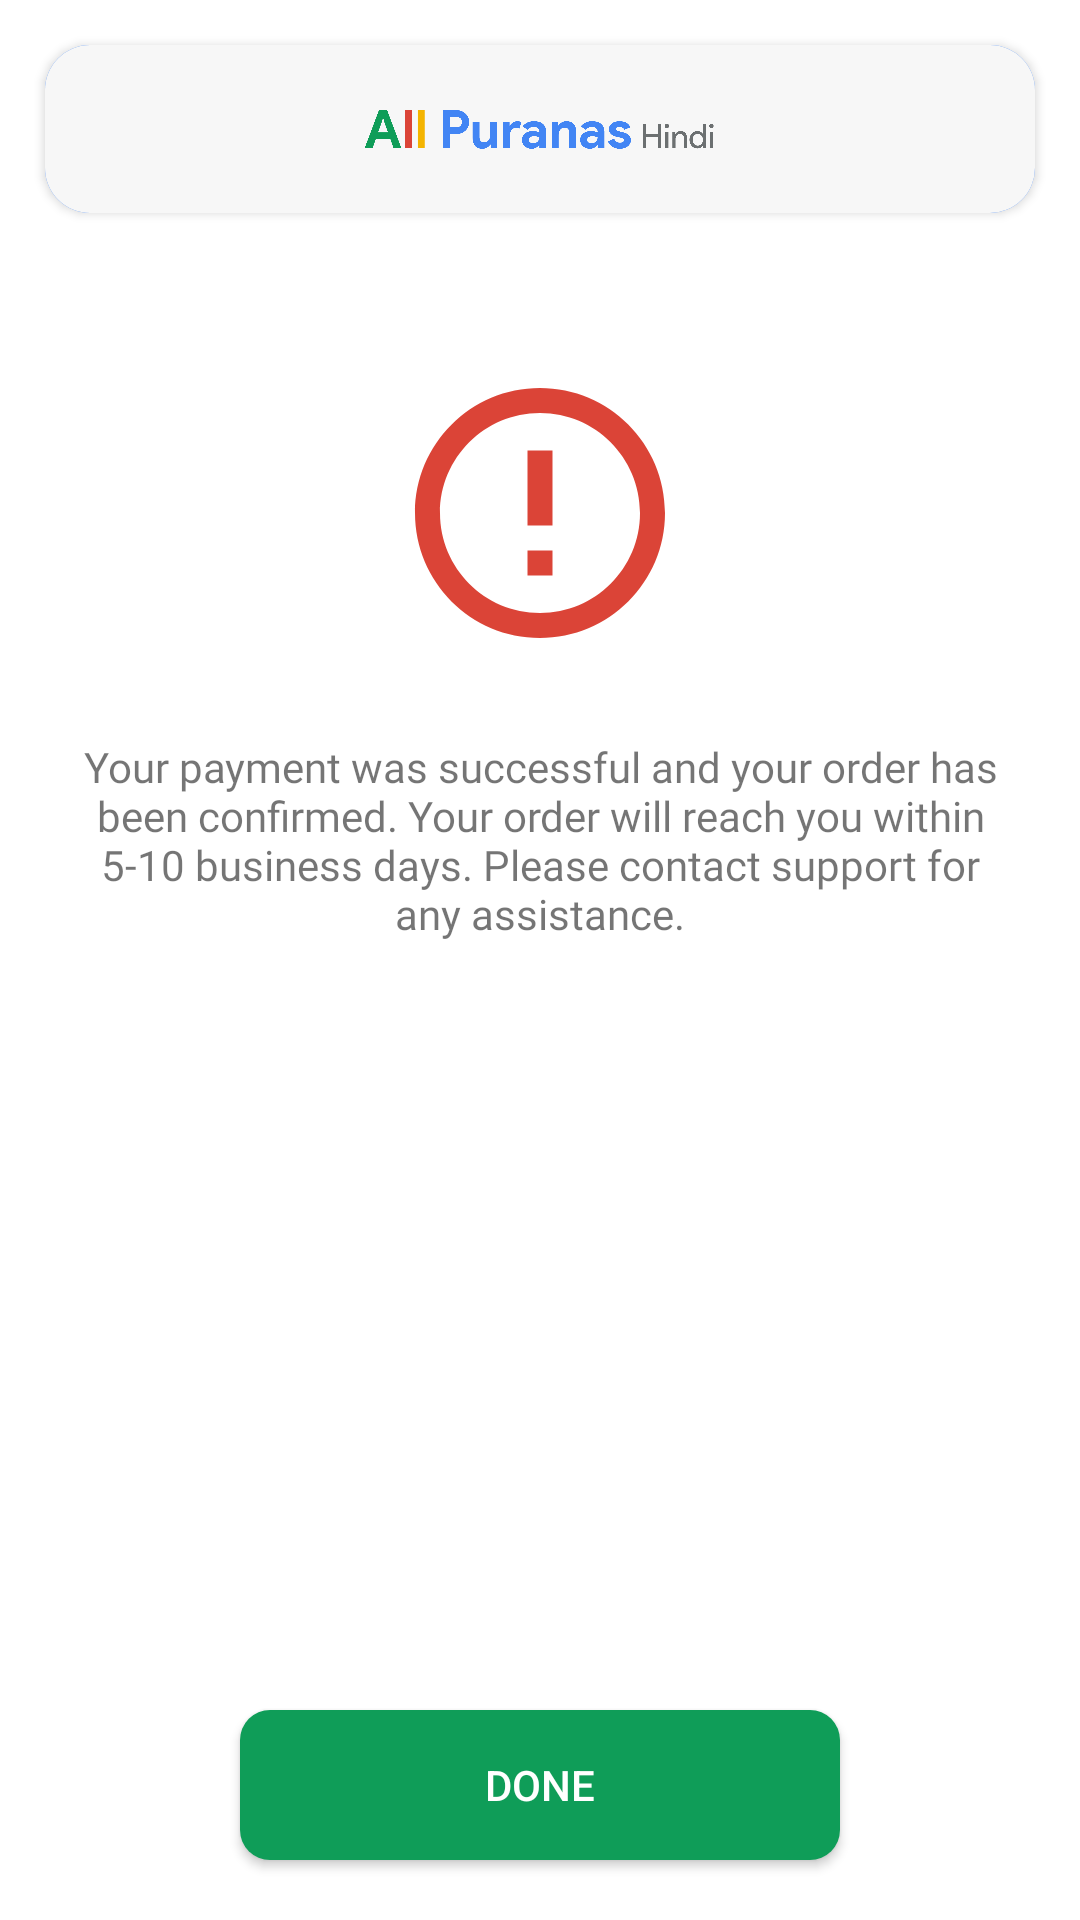

Where to tap for icons on this 1080px x 1920px app screen, as point (x, y):
error: point (540, 513)
